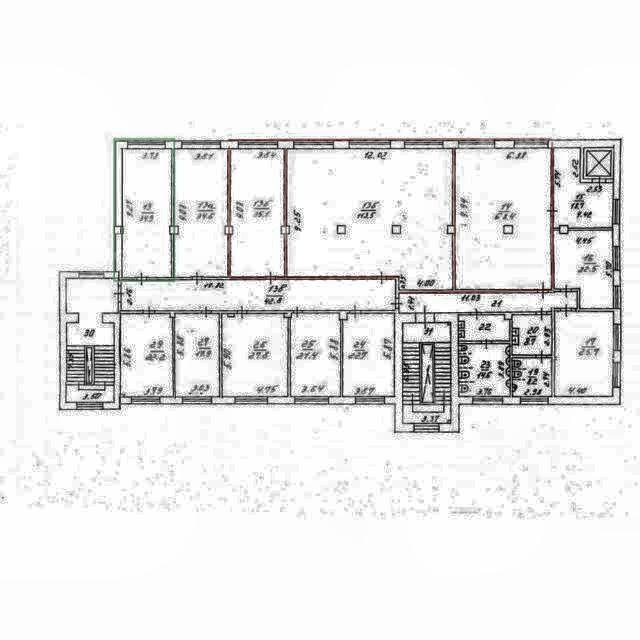room: (286, 150, 453, 290), (455, 148, 552, 288), (122, 282, 395, 310), (231, 149, 284, 276), (175, 150, 227, 277), (66, 278, 118, 403), (122, 149, 171, 277), (221, 313, 287, 396), (555, 313, 614, 396), (554, 148, 613, 228), (403, 323, 450, 423), (554, 231, 613, 309), (120, 314, 173, 397), (342, 314, 394, 397), (291, 313, 340, 397), (399, 292, 577, 313), (175, 313, 219, 397), (459, 344, 510, 396), (512, 314, 551, 355), (512, 358, 551, 396), (458, 315, 510, 341), (587, 150, 612, 177)
